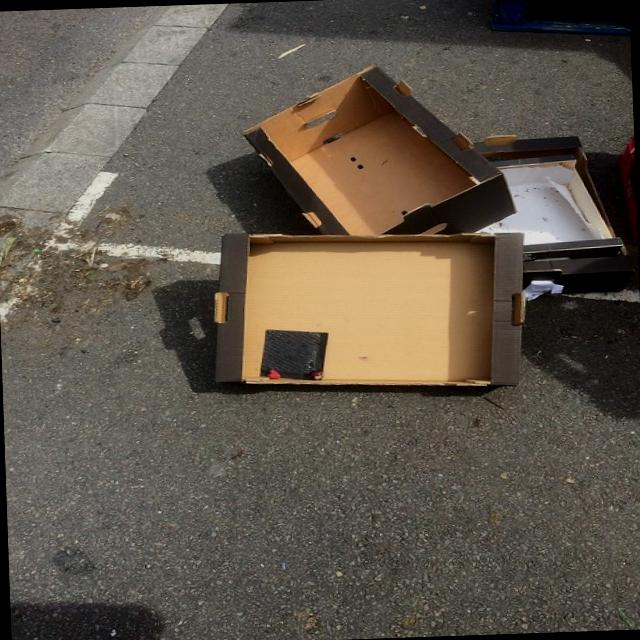Recycle: (208, 218, 540, 400), (236, 62, 514, 249), (439, 121, 633, 302)
